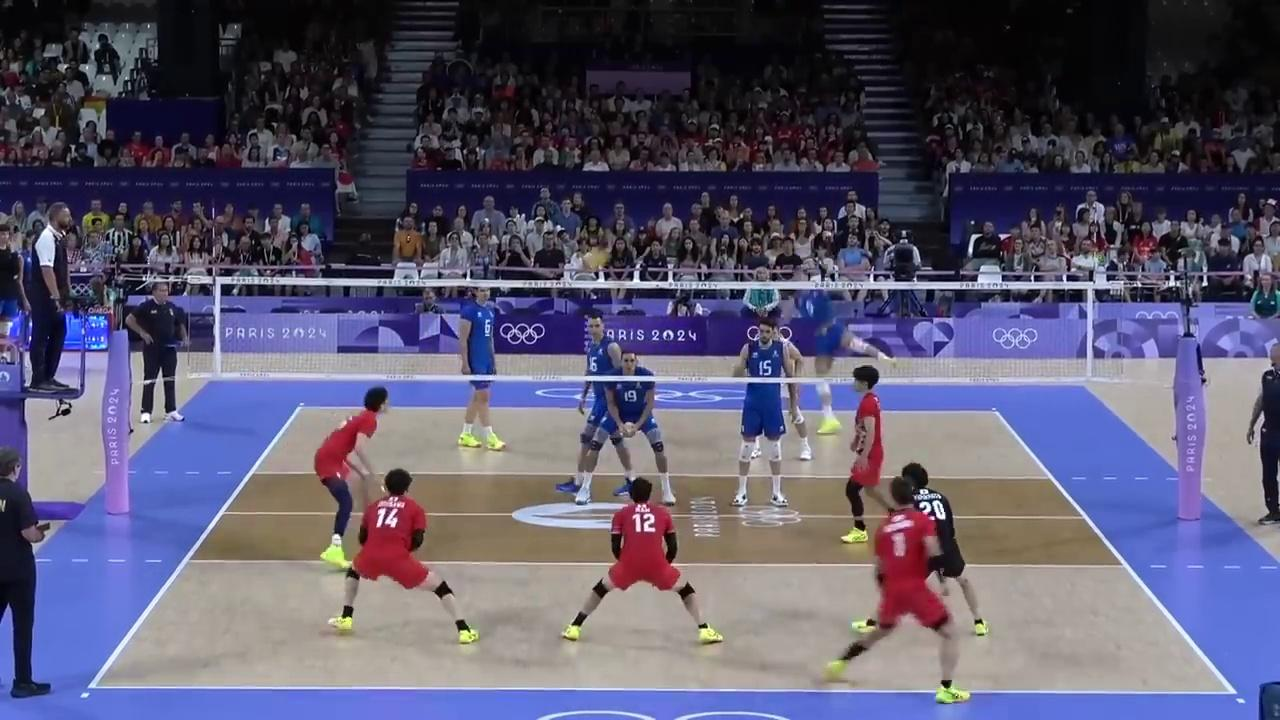ball: (582, 248, 610, 270)
